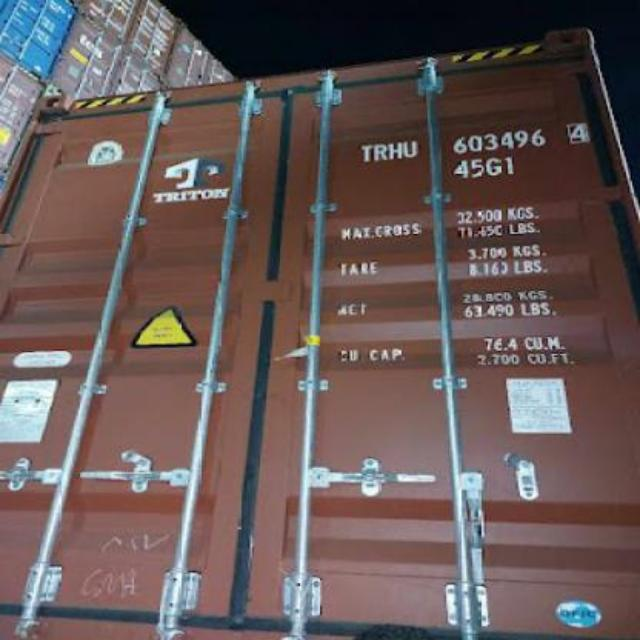0: (466, 130, 482, 154)
3: (482, 128, 496, 152)
4: (566, 116, 588, 148), (496, 126, 514, 152)
6: (526, 122, 546, 154), (452, 130, 466, 160)
9: (512, 125, 526, 152)
H: (386, 138, 402, 162)
R: (372, 132, 386, 166)
T: (356, 135, 372, 165)
U: (402, 136, 418, 162)
